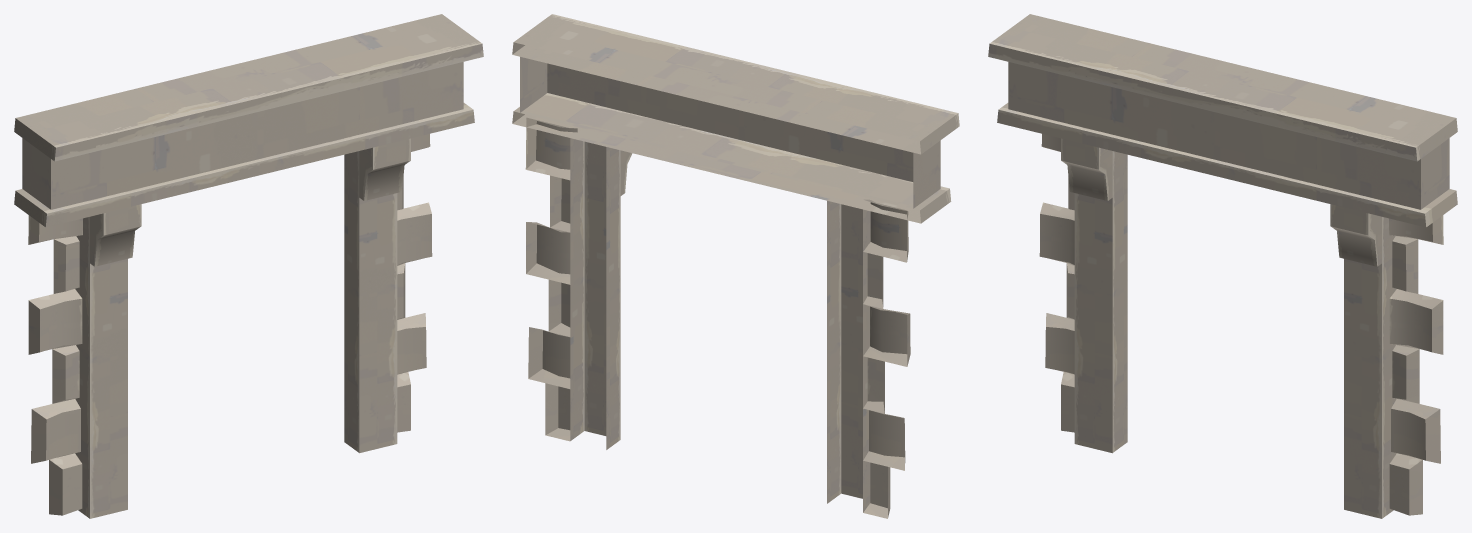
The model's file is MOD_Door_03_framedeco_03_03.fbx.
3 views of the same model, side by side, from view 1: azimuth 30°, elevation 25°; view 2: azimuth 150°, elevation 25°; view 3: azimuth 330°, elevation 25° (orthographic). The views are drawn at different scales.
Parts seen in each view (by area): view 1: MOD_Door_03_framedeco_03_03; view 2: MOD_Door_03_framedeco_03_03; view 3: MOD_Door_03_framedeco_03_03.
Part boxes in pixels (left/top/right/bottom): MOD_Door_03_framedeco_03_03: left=14, top=14, right=483, bottom=518; MOD_Door_03_framedeco_03_03: left=512, top=14, right=959, bottom=518; MOD_Door_03_framedeco_03_03: left=988, top=14, right=1457, bottom=518.
Bounding box in the file's own units: 362 × 326 × 59.7.
